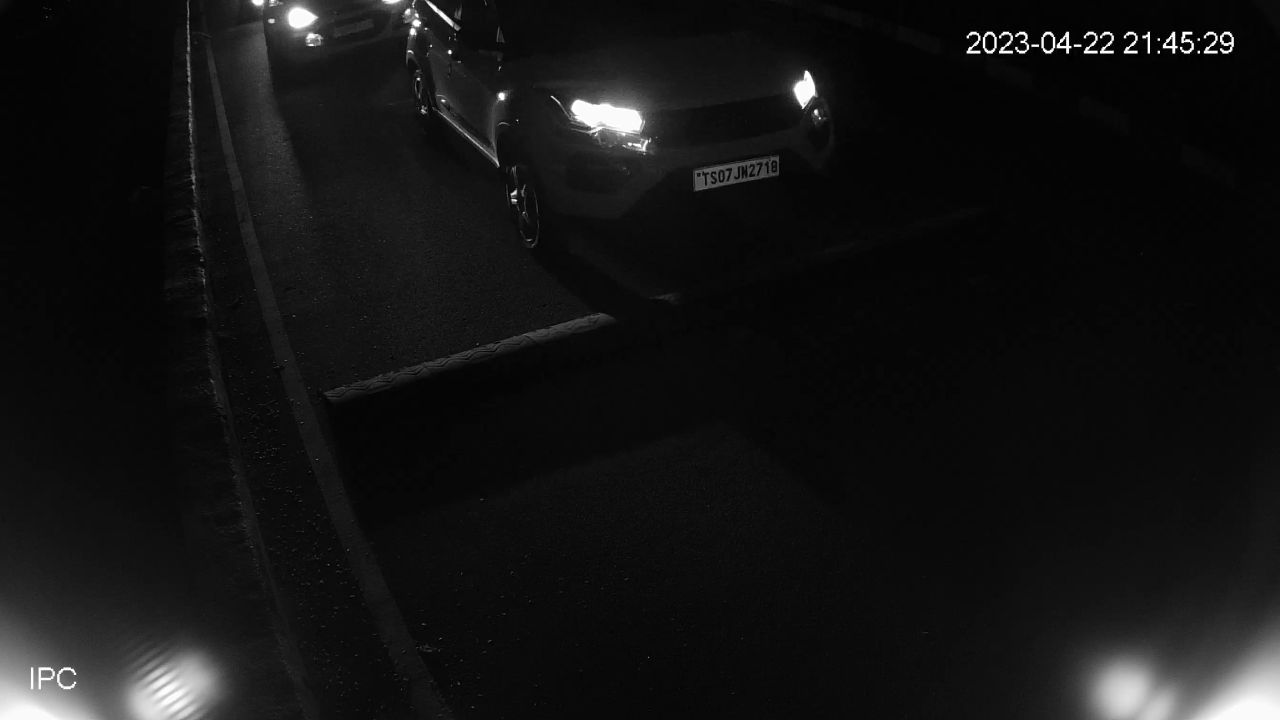license_plate: (688, 152, 786, 195)
